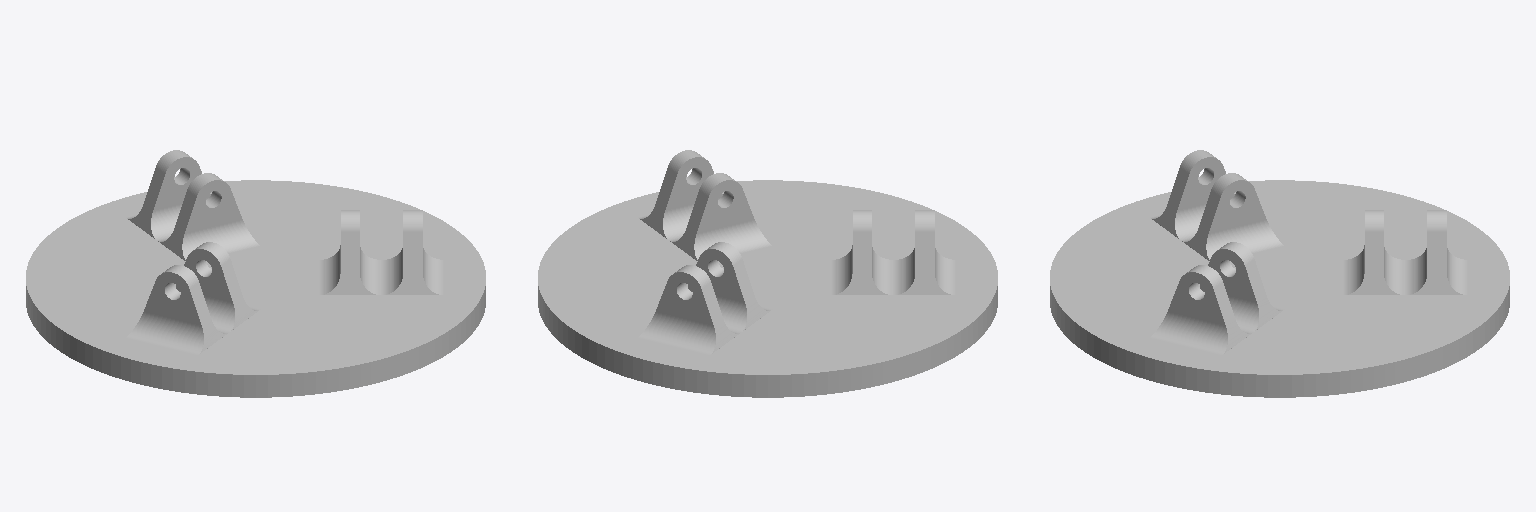
3 views of the same model, side by side, from view 1: azimuth 30°, elevation 25°; view 2: azimuth 150°, elevation 25°; view 3: azimuth 270°, elevation 25° (orthographic).
Visible parts, largest first — view 1: baseplate-120; view 2: baseplate-120; view 3: baseplate-120.
Boxes of the visible parts, x1=… form: baseplate-120: x1=26, y1=150, x2=485, y2=397; baseplate-120: x1=538, y1=150, x2=997, y2=397; baseplate-120: x1=1050, y1=150, x2=1509, y2=397.
Size of the model in its own units: 5.51 by 1.17 by 5.51.